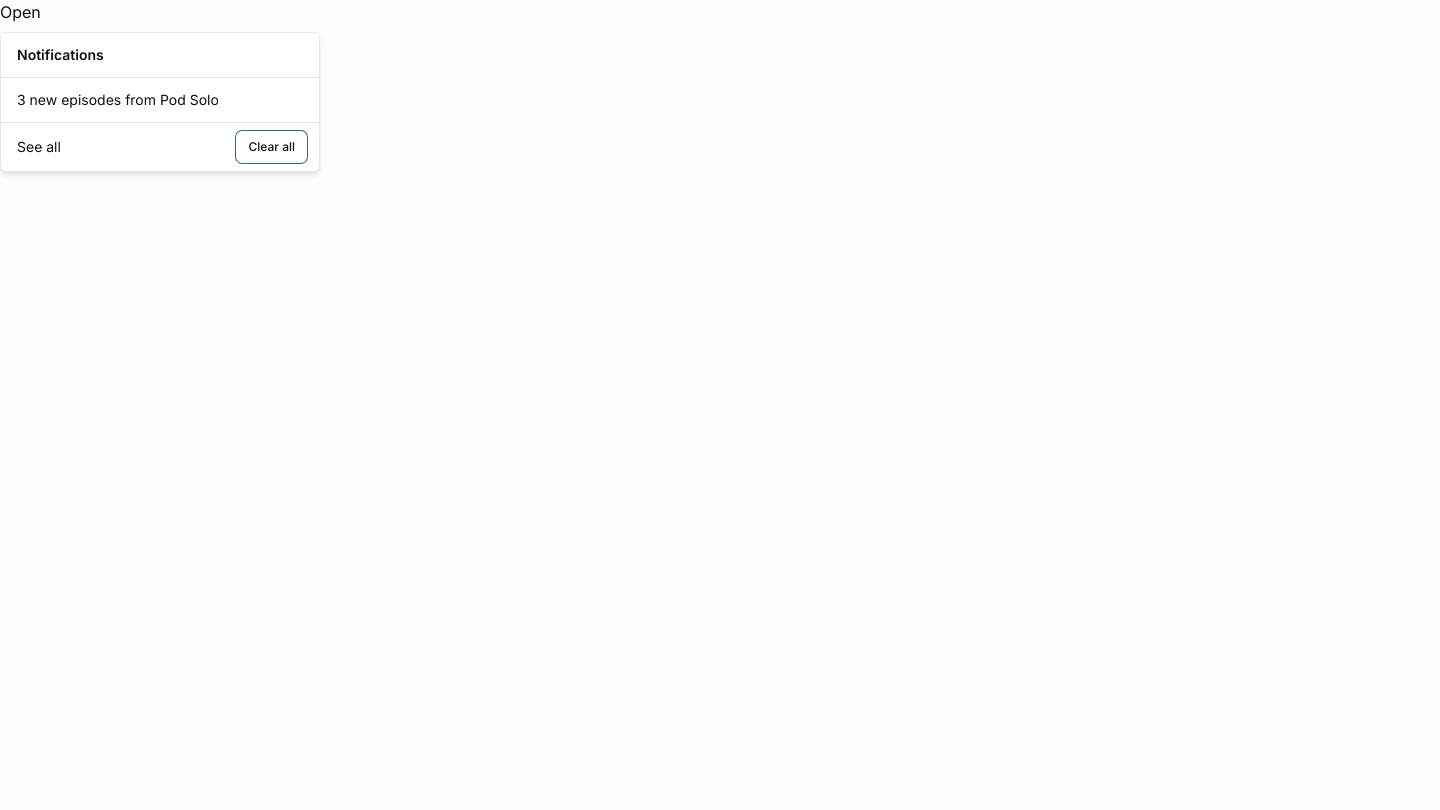
Test: NotificationPopover › (n) clicking the last group leaves the empty state, not the legacy fallback
The image size is (1440, 810).
What coordinates should you click on to do the following:
click the link "3 new episodes from Pod Solo"
I would click on:
 (118, 100)
Its box is x1=17 y1=91 x2=219 y2=108.
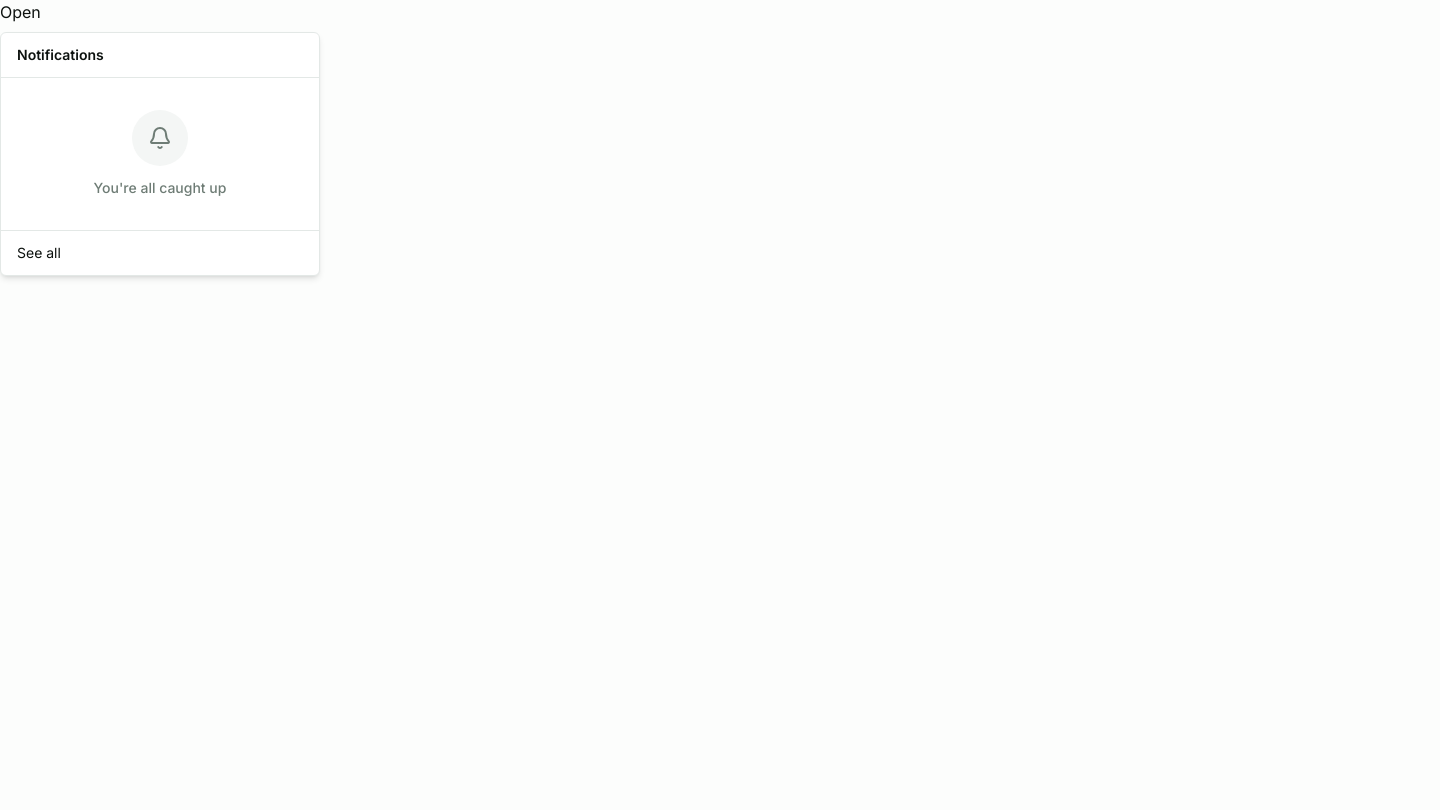
Result: the text "You're all caught up" is shown at x1=94 y1=178 x2=226 y2=198
